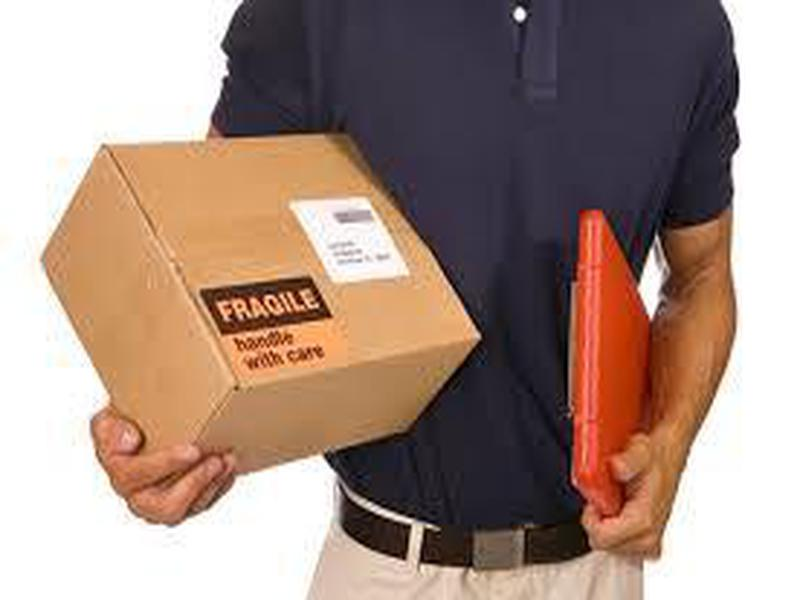package: (26, 116, 492, 498)
